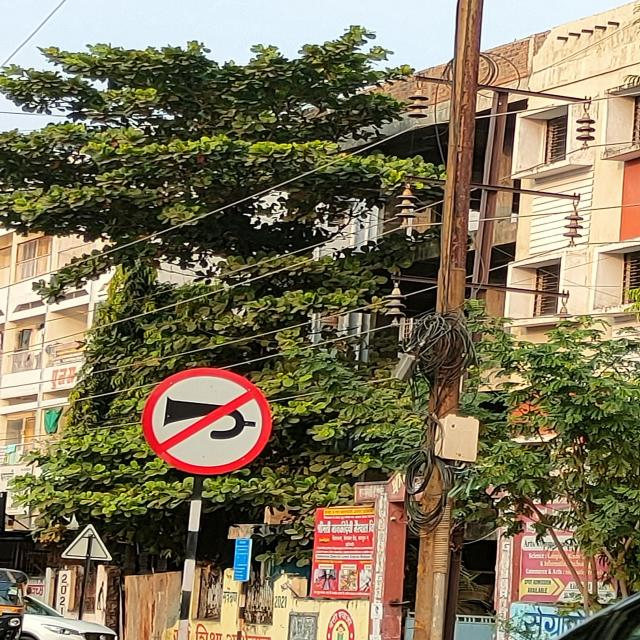HORN_PROHIBITED: (140, 367, 269, 476)
